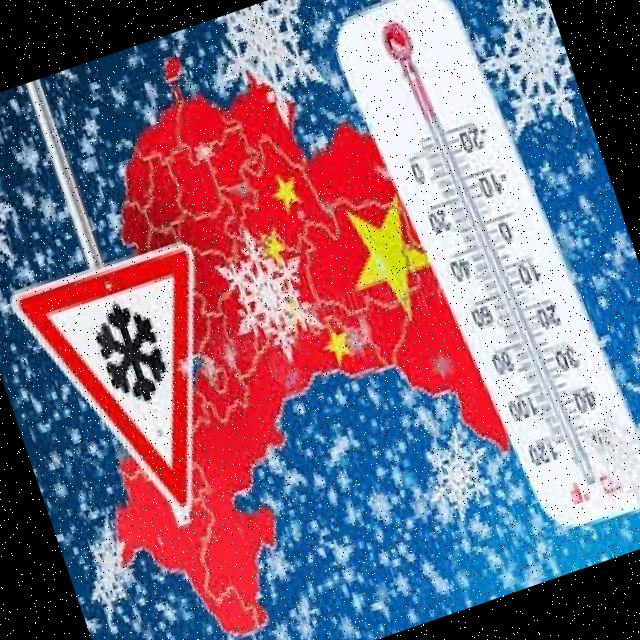snow_warning: (2, 224, 269, 545)
